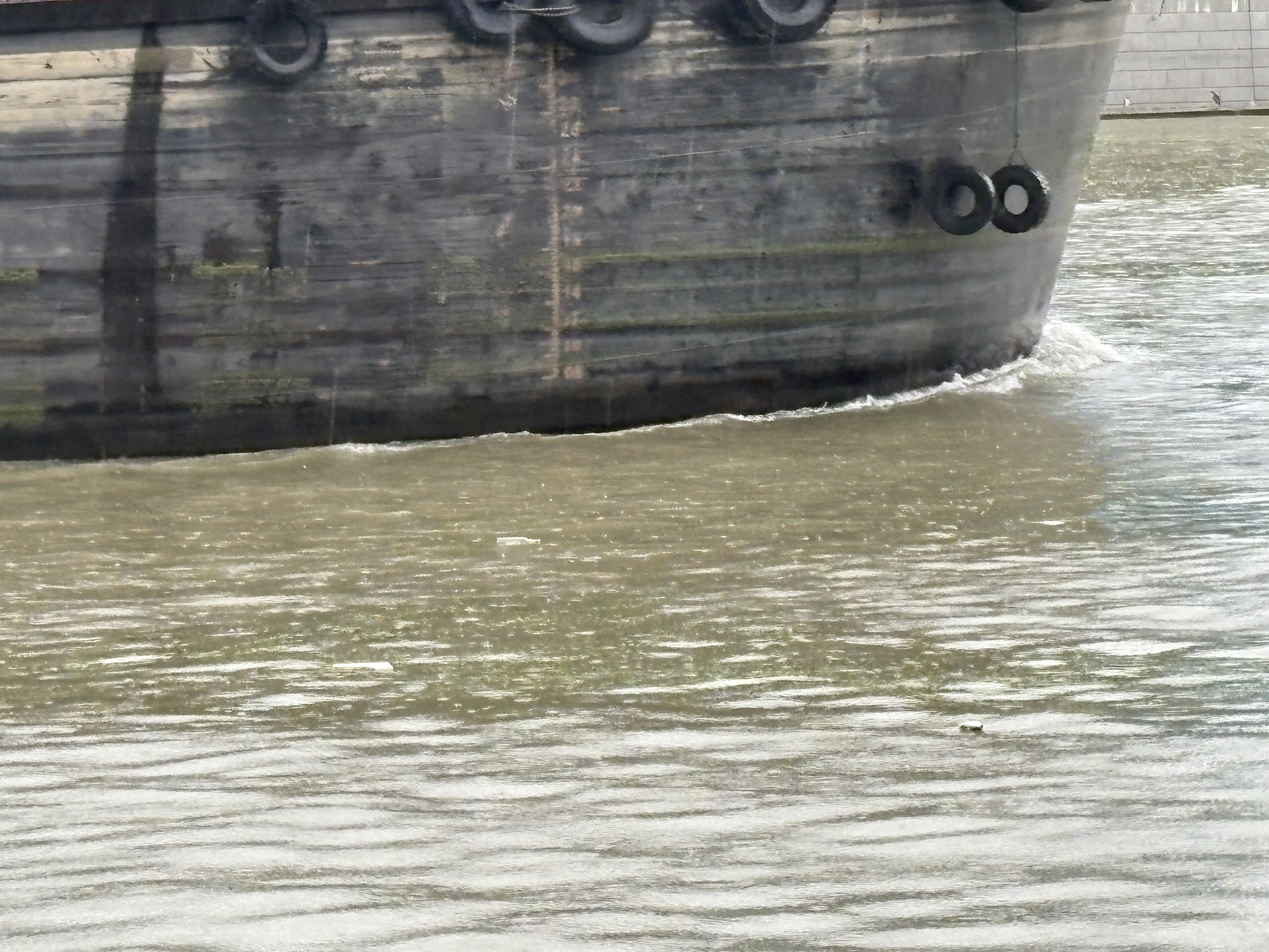Plastic wastes: (490, 528, 547, 550), (960, 715, 983, 736)
